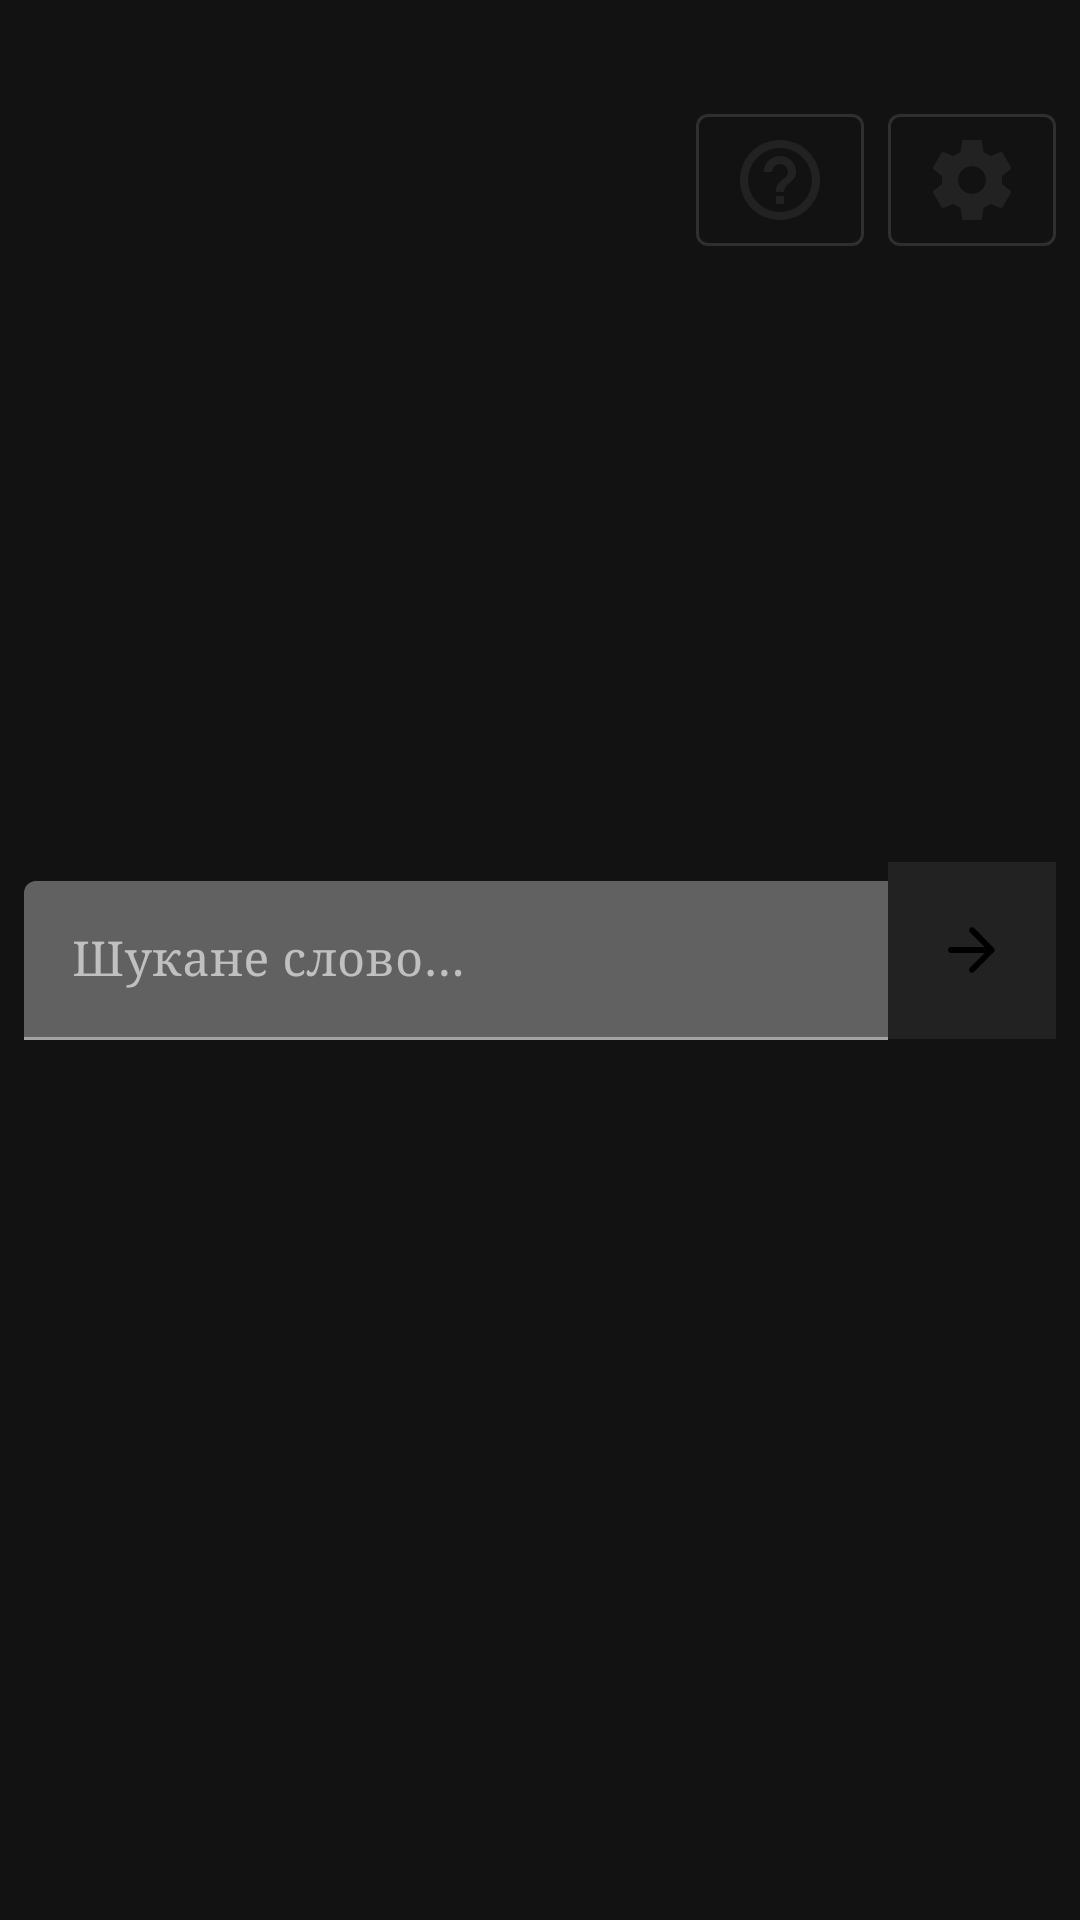

Icon bounding boxes for this 1080×1920 phone screenshot, format (x1, y1, x2, y2):
Налаштування: (888, 114, 1056, 246)
Про застосунок: (696, 114, 864, 246)
